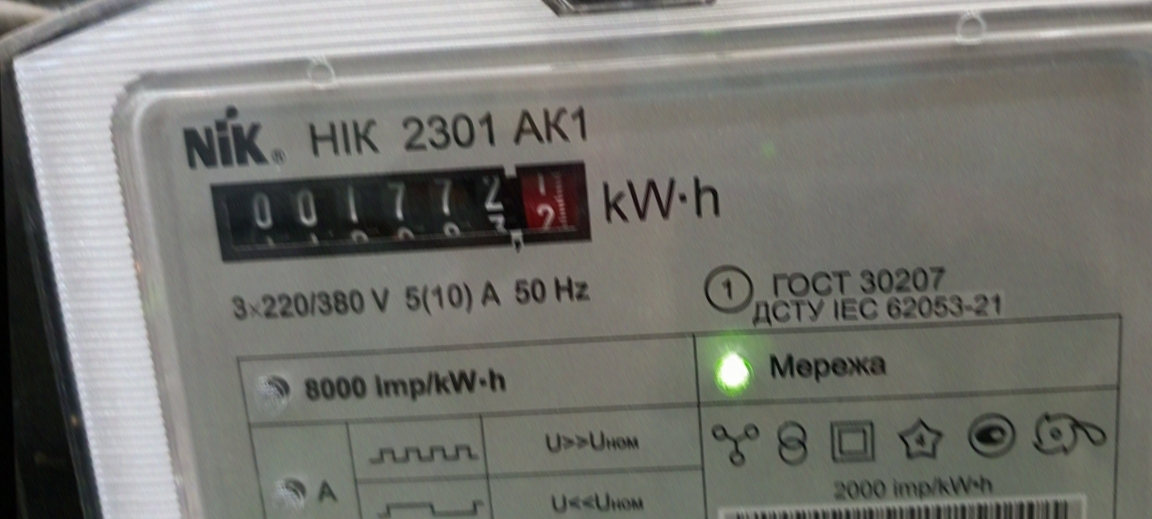0: (244, 188, 273, 229), (291, 186, 316, 226)
1: (340, 183, 358, 222), (531, 171, 545, 197)
2: (478, 174, 502, 212), (529, 201, 554, 230)
3: (484, 212, 506, 234)
7: (383, 179, 407, 221), (429, 177, 452, 216)
screen: (195, 149, 606, 274)
